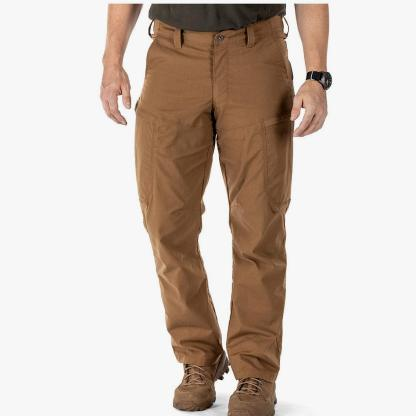dress: (134, 14, 299, 387)
